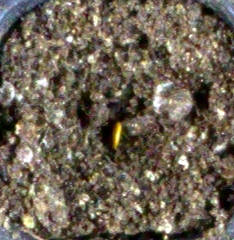chilli seed: (113, 121, 121, 149)
